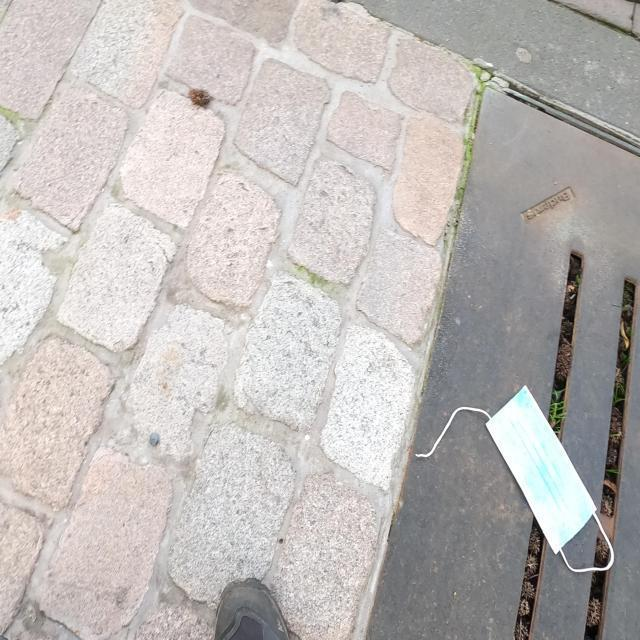Mask: (414, 382, 616, 574)
